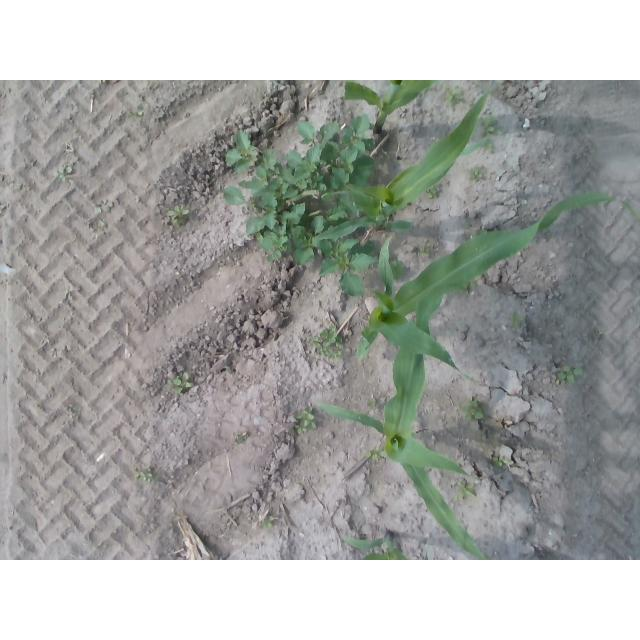Maize: (355, 192, 638, 383), (316, 281, 489, 560), (315, 85, 493, 239), (345, 80, 443, 133), (340, 529, 409, 559), (424, 552, 428, 560)
Weeds: (223, 111, 376, 297), (310, 324, 346, 365), (483, 117, 506, 155), (294, 406, 317, 435), (453, 478, 477, 505), (459, 401, 486, 424), (166, 372, 195, 393), (555, 366, 583, 387), (165, 206, 191, 227), (133, 466, 157, 486), (444, 85, 464, 107), (363, 444, 387, 461), (91, 198, 114, 215), (54, 165, 74, 184), (391, 260, 409, 281), (507, 309, 525, 330), (491, 455, 514, 469), (467, 166, 484, 182), (128, 104, 144, 120), (421, 242, 436, 259), (234, 431, 250, 446), (258, 516, 274, 531), (66, 405, 83, 419), (426, 186, 440, 200), (366, 397, 379, 410), (65, 287, 76, 302), (463, 284, 474, 297), (96, 219, 108, 229), (0, 202, 8, 214), (596, 327, 605, 337), (224, 366, 232, 375), (14, 183, 23, 190), (100, 80, 107, 84)
